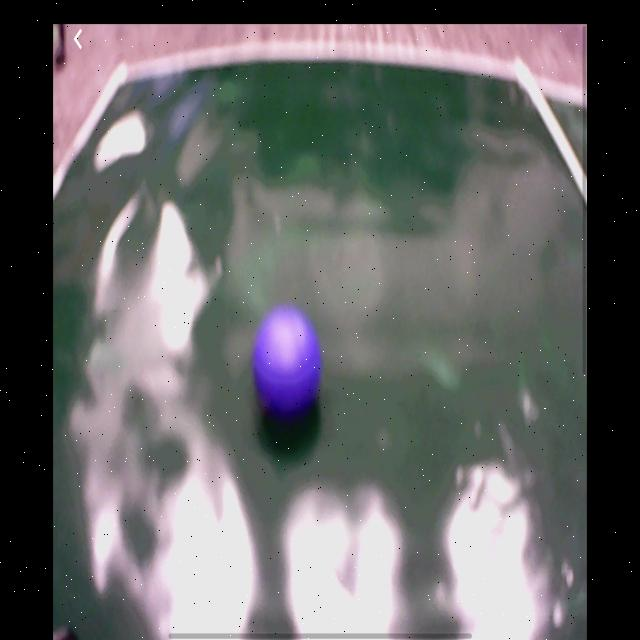ball: (256, 307, 324, 416)
